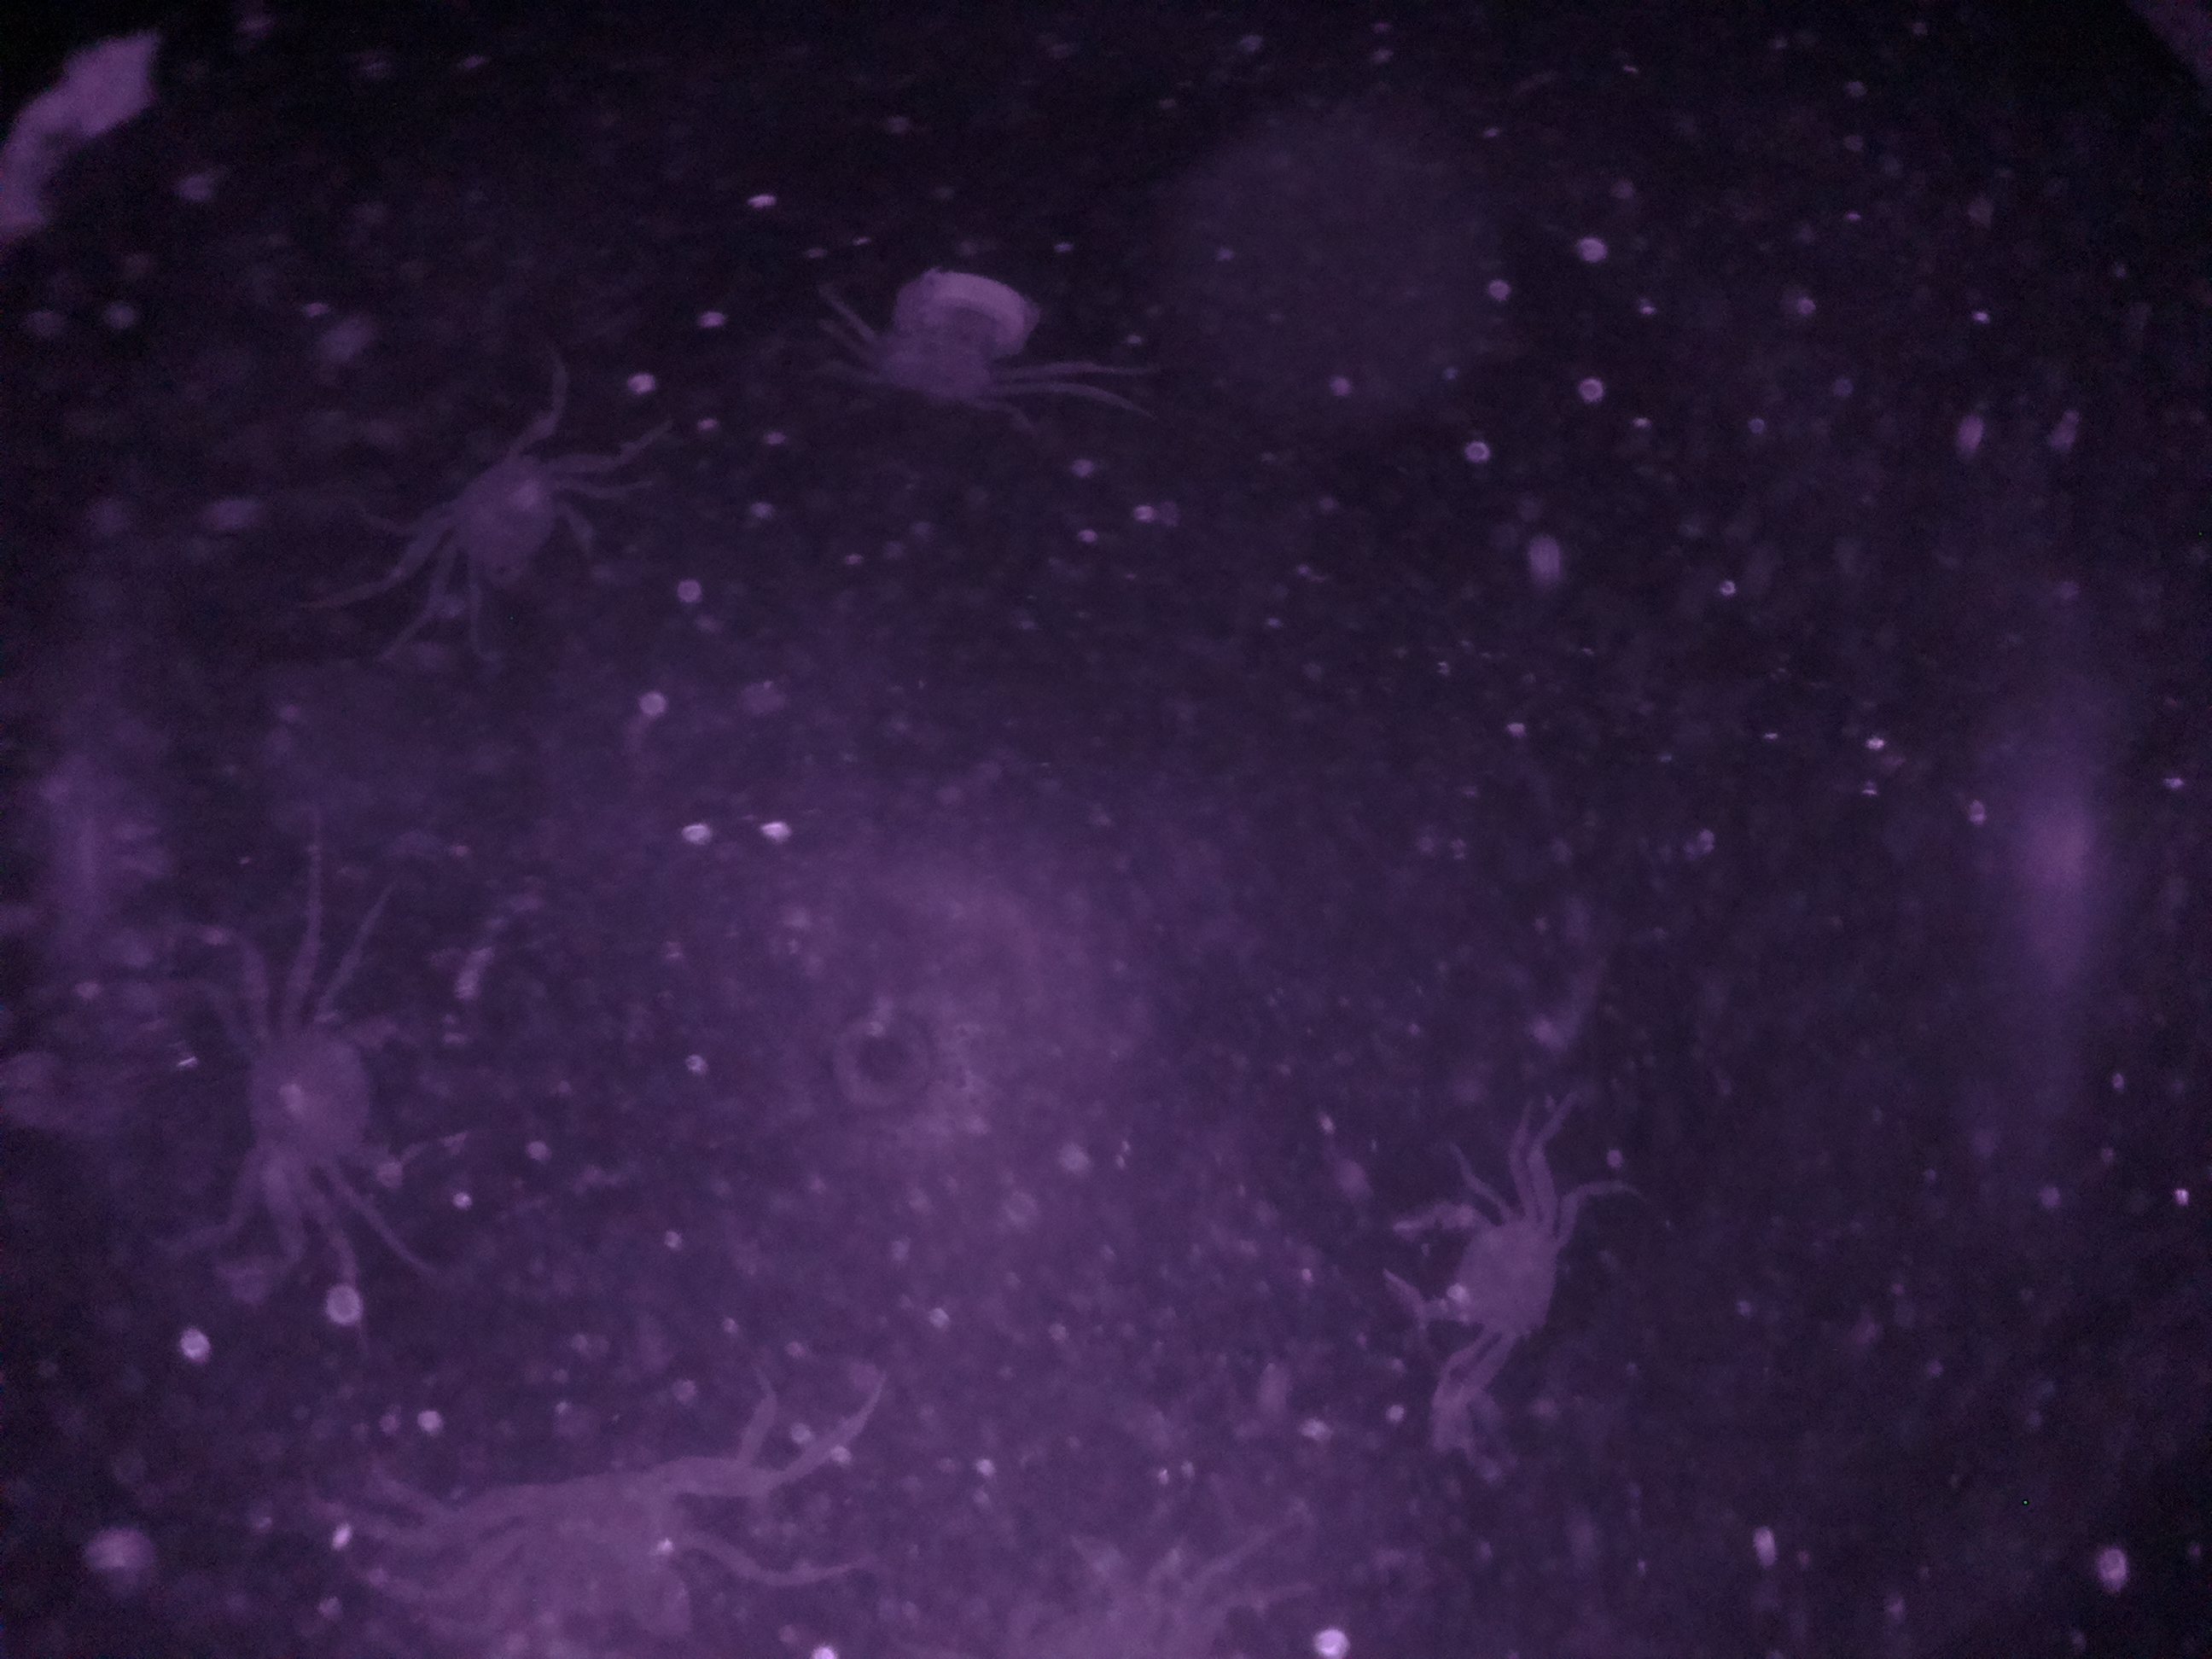Crab: (1348, 1159, 1580, 1375), (406, 415, 637, 627)
